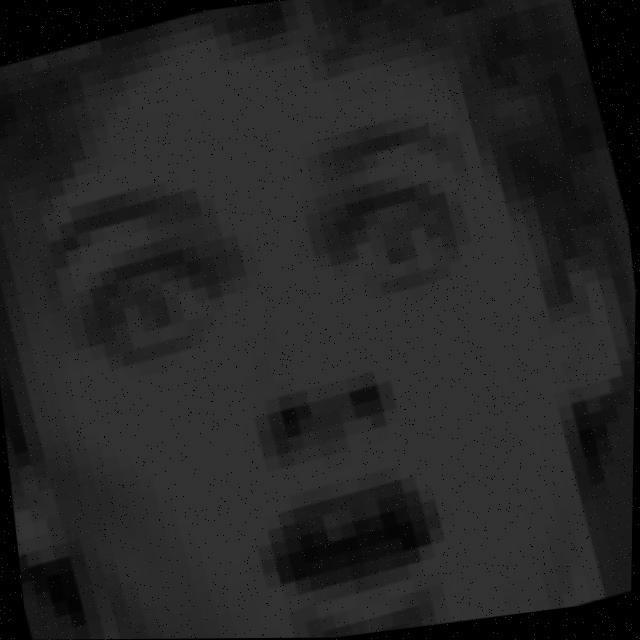Surprised: (41, 124, 550, 640)
